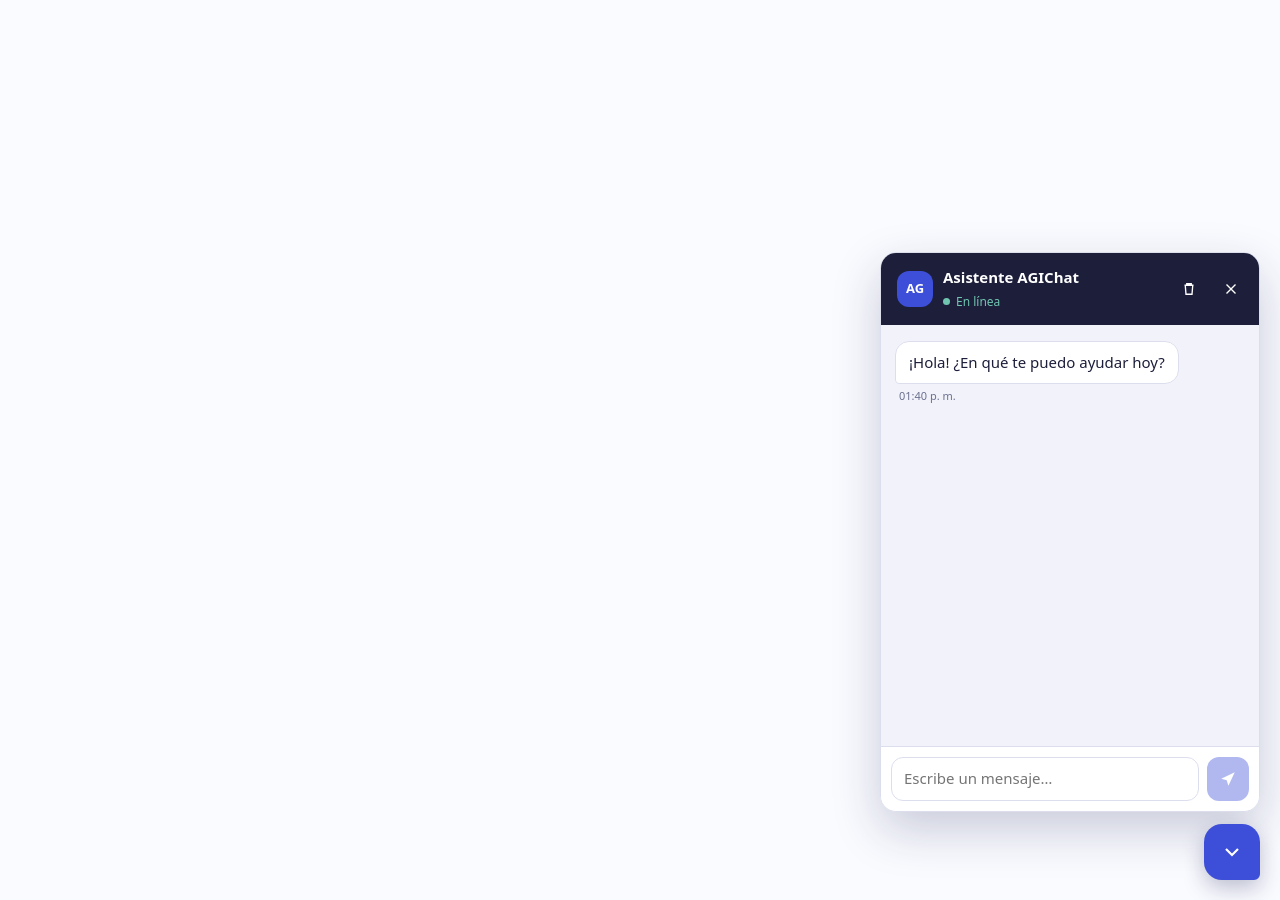
Test case: ChatWidget › se cierra con el botón del encabezado
Click the button named "Cerrar chat": [1231, 289] box [1215, 273, 1247, 305]
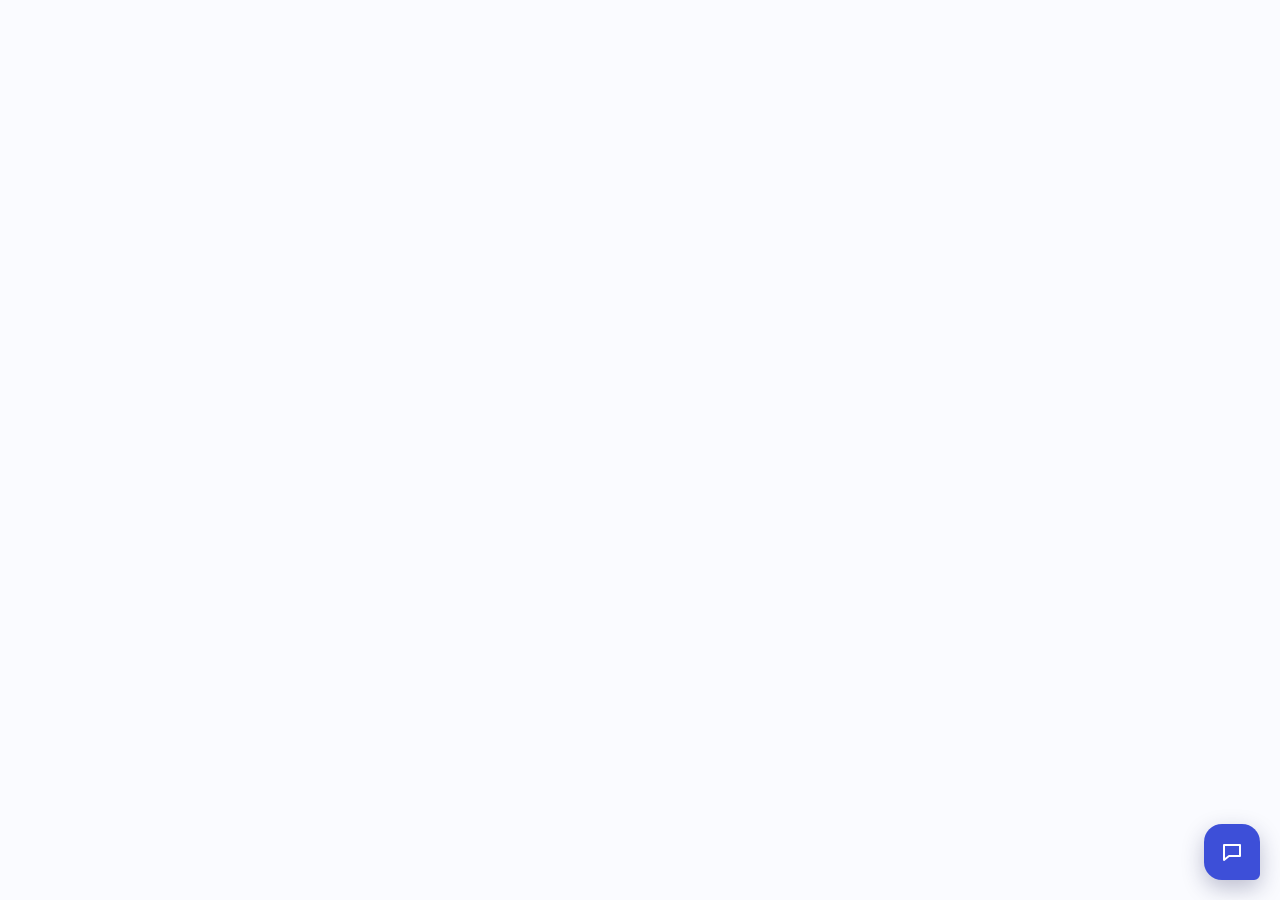
Expected: the dialog is gone
